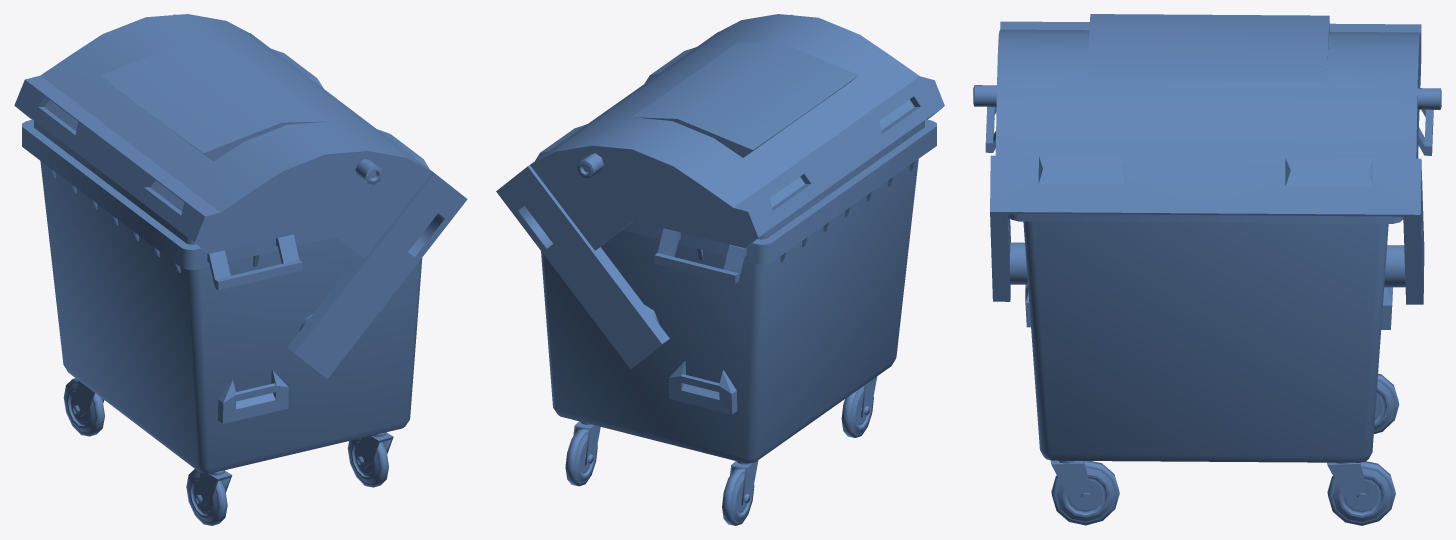
Rendered from garbage.glb.
3 views of the same model, side by side, from view 1: azimuth 30°, elevation 25°; view 2: azimuth 150°, elevation 25°; view 3: azimuth 270°, elevation 25° (orthographic). The views are drawn at different scales.
Visible parts, largest first — view 1: Cube.144, Cube.147, Cube.146, Cube.145, Cube.142; view 2: Cube.144, Cube.147, Cube.142, Cube.143, Cube.146; view 3: Cube.147, Cube.144, Cube.145, Cube.143, Cube.142.
Part boxes in pixels (left/top/right/bottom): Cube.144: left=22, top=119, right=422, bottom=473; Cube.147: left=14, top=14, right=467, bottom=378; Cube.146: left=186, top=469, right=232, bottom=525; Cube.145: left=347, top=432, right=393, bottom=487; Cube.142: left=63, top=378, right=104, bottom=436; Cube.144: left=541, top=119, right=936, bottom=463; Cube.147: left=496, top=14, right=944, bottom=368; Cube.142: left=722, top=460, right=758, bottom=525; Cube.143: left=565, top=421, right=600, bottom=486; Cube.146: left=841, top=376, right=877, bottom=437; Cube.147: left=973, top=14, right=1441, bottom=304; Cube.144: left=985, top=106, right=1433, bottom=462; Cube.145: left=1050, top=460, right=1119, bottom=525; Cube.143: left=1327, top=461, right=1395, bottom=525; Cube.142: left=1374, top=373, right=1399, bottom=433.
Size of what is drawn, in the model's own units: 2.62 by 3.46 by 3.39.
